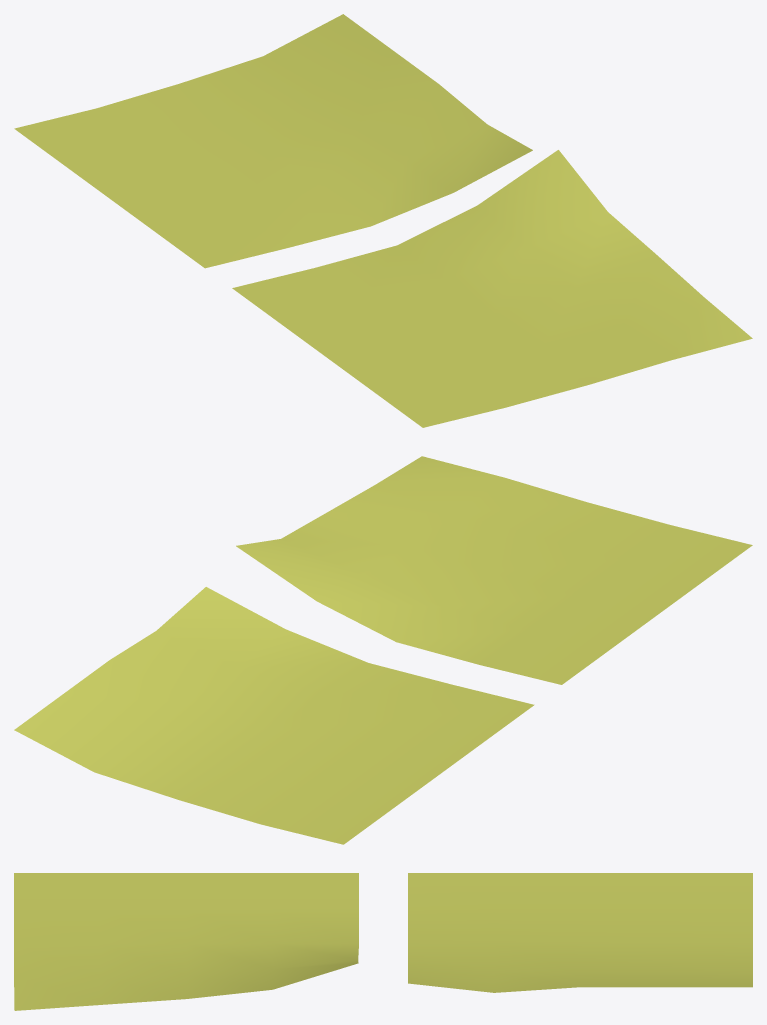
The model's file is stickyNotes.glb.
3 renders of one model, top to bottom at view 1: azimuth 30°, elevation 25°; view 2: azimuth 150°, elevation 25°; view 3: azimuth 270°, elevation 25°, orthographic. The views are drawn at different scales.
Visible parts, largest first — view 1: Plane, Plane_001; view 2: Plane_001, Plane; view 3: Plane, Plane_001.
Part boxes in pixels (bbox=[...]): Plane: bbox=[232, 150, 752, 427]; Plane_001: bbox=[14, 14, 532, 268]; Plane_001: bbox=[14, 587, 534, 844]; Plane: bbox=[236, 456, 752, 684]; Plane: bbox=[14, 873, 358, 1010]; Plane_001: bbox=[408, 873, 752, 992].
Bounding box in the file's own units: 1752 × 300 × 3755.
